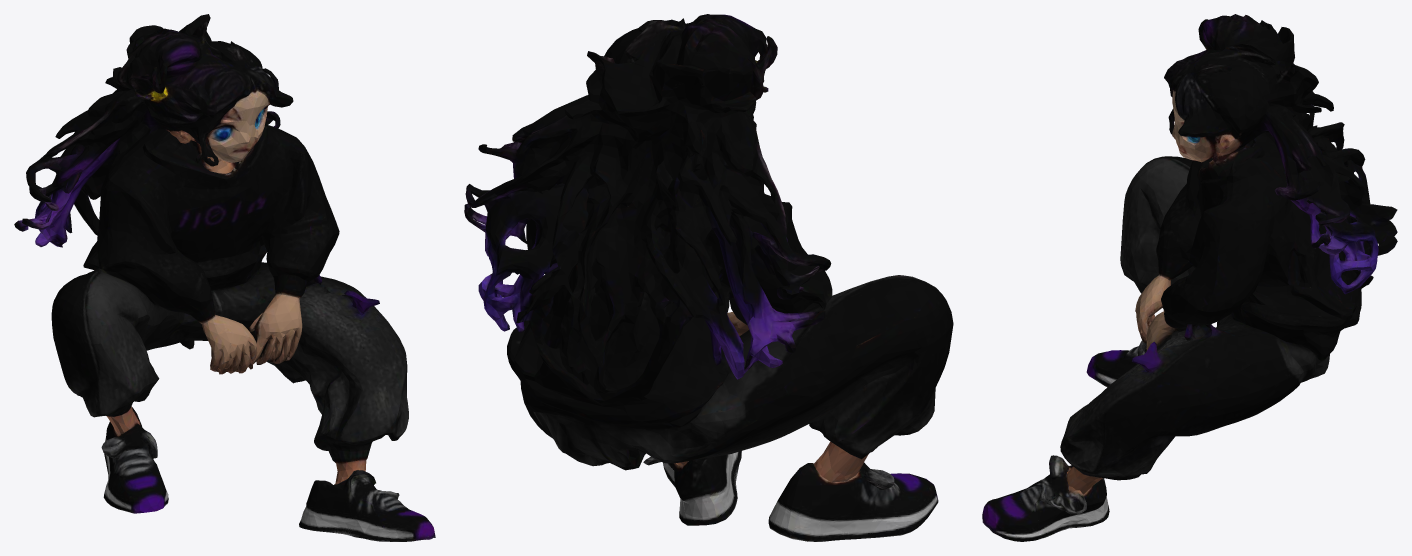
File: char_nova.glb
The picture shows the model from 3 angles, left to right: view 1: azimuth 30°, elevation 25°; view 2: azimuth 150°, elevation 25°; view 3: azimuth 270°, elevation 25°; orthographic projection. The views are drawn at different scales.
Visible parts, largest first — view 1: char_nova_model; view 2: char_nova_model; view 3: char_nova_model.
Boxes of the visible parts, left/top/right/bottom form: char_nova_model: left=14, top=14, right=435, bottom=541; char_nova_model: left=464, top=14, right=953, bottom=541; char_nova_model: left=982, top=14, right=1397, bottom=541.
Size of the model in its own units: 1.01 by 1.39 by 1.14.
Materials: 1 (1 with a texture image).
